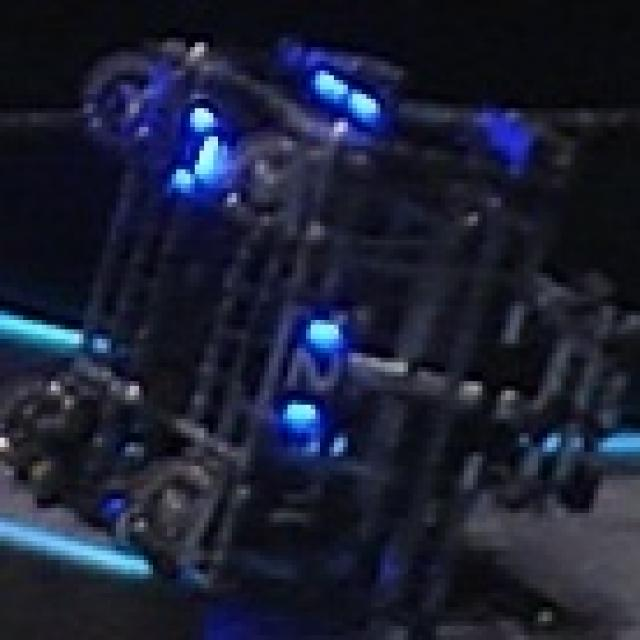B2: (260, 304, 352, 431)
